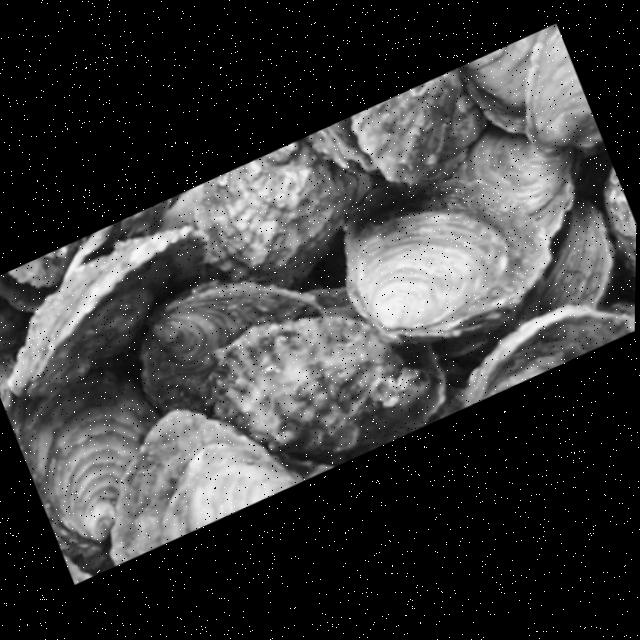Oyster-Closed: (314, 285, 449, 466), (325, 69, 459, 184)
Oyster-Indeterminate: (5, 233, 211, 396), (343, 180, 548, 341), (207, 318, 429, 459), (112, 410, 305, 567), (158, 143, 368, 286), (145, 284, 324, 417), (20, 371, 159, 538), (466, 307, 635, 408), (442, 127, 576, 240), (525, 23, 602, 150), (457, 28, 544, 133), (542, 195, 614, 313), (423, 92, 486, 179), (606, 171, 636, 282)
Oyster-Open: (0, 239, 79, 309)
